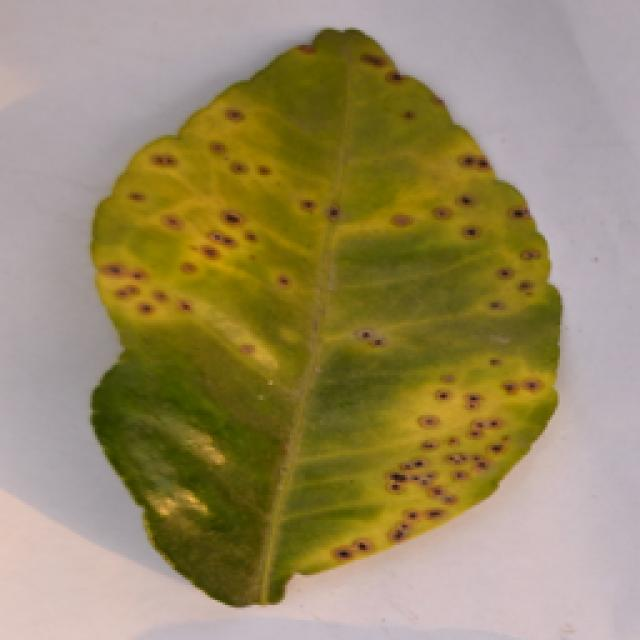canker: (93, 25, 562, 611)
